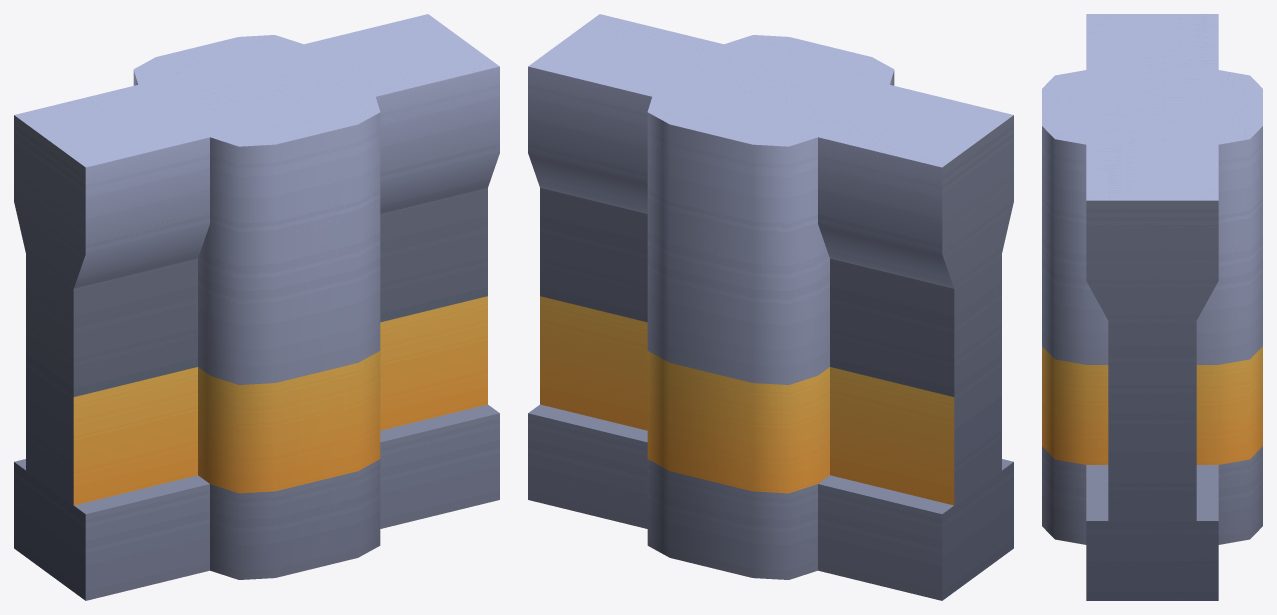
Rendered from wall-pillar-banner.glb.
The picture shows the model from 3 angles, left to right: view 1: azimuth 30°, elevation 25°; view 2: azimuth 150°, elevation 25°; view 3: azimuth 270°, elevation 25°; orthographic projection. The views are drawn at different scales.
Parts seen in each view (by area): view 1: wall-pillar-banner; view 2: wall-pillar-banner; view 3: wall-pillar-banner.
Boxes of the visible parts, box(x1,y1,x2,y2) form: wall-pillar-banner: box(14, 14, 499, 600); wall-pillar-banner: box(528, 14, 1013, 600); wall-pillar-banner: box(1042, 14, 1262, 600).
Size of the model in its own units: 3 by 3 by 1.5.
Materials: 1 (1 with a texture image).
